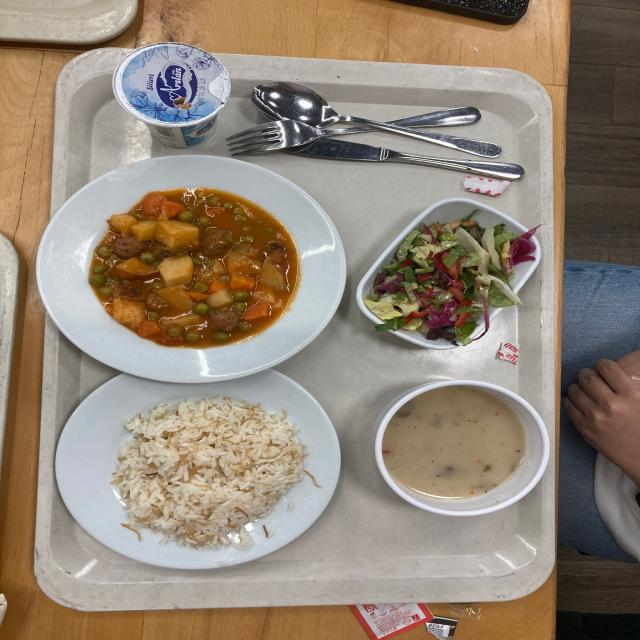ana_yemek: (76, 160, 310, 366), (83, 387, 307, 573)
corba: (375, 379, 555, 521)
yan_yemek: (349, 201, 558, 343)
